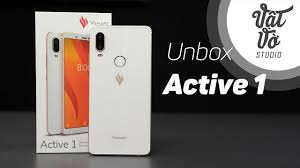vsmart: (87, 23, 154, 157)
